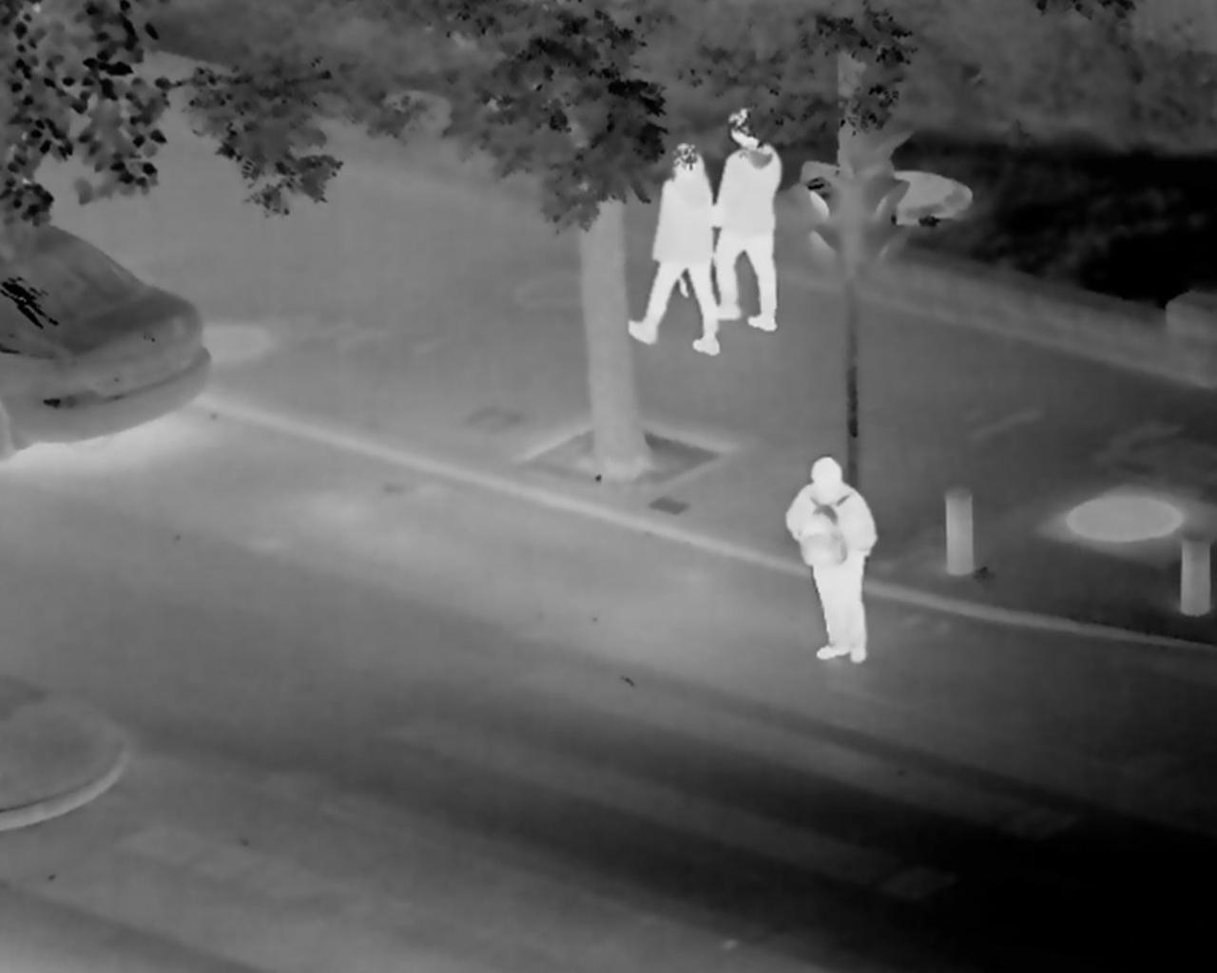person: (786, 450, 885, 693), (633, 143, 727, 355), (729, 121, 783, 331)
